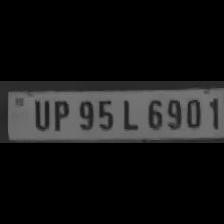0: (182, 96, 202, 130)
1: (204, 96, 222, 130)
5: (93, 97, 115, 131)
6: (142, 96, 164, 130)
9: (72, 97, 94, 131), (164, 96, 182, 130)
L: (117, 96, 141, 132)
P: (50, 97, 72, 131)
U: (28, 97, 52, 131)
